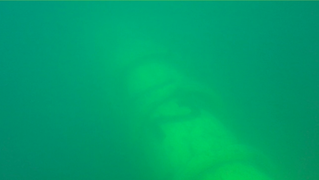2: (147, 98, 201, 141)
pipe: (96, 1, 282, 179)
